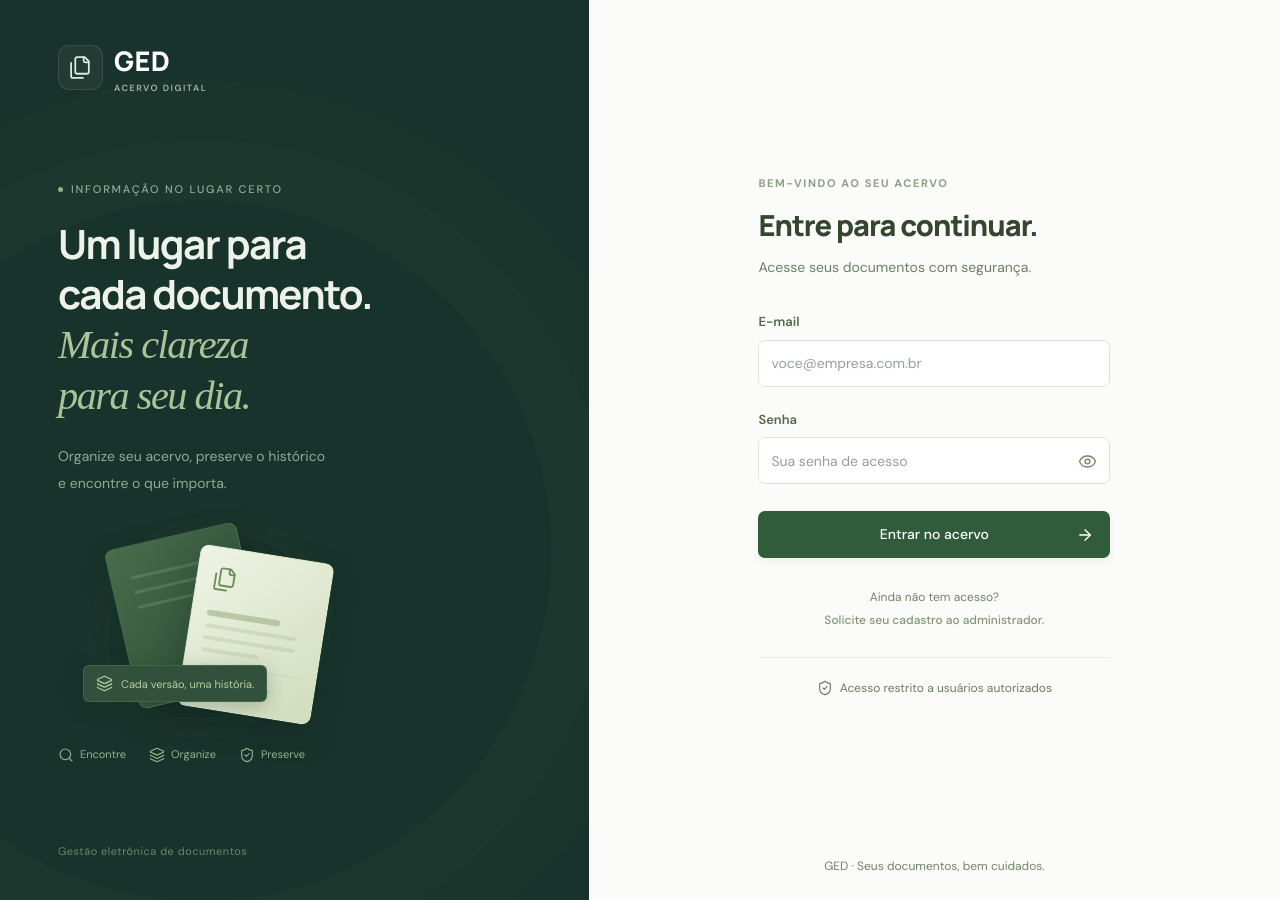
Test case: telas conectadas à API › mostra o erro de credenciais e permite corrigir o formulário
Type "marina@example.test" into the field with id "email".
click(934, 363); type("marina@example.test")  # box [758,340,1110,387]
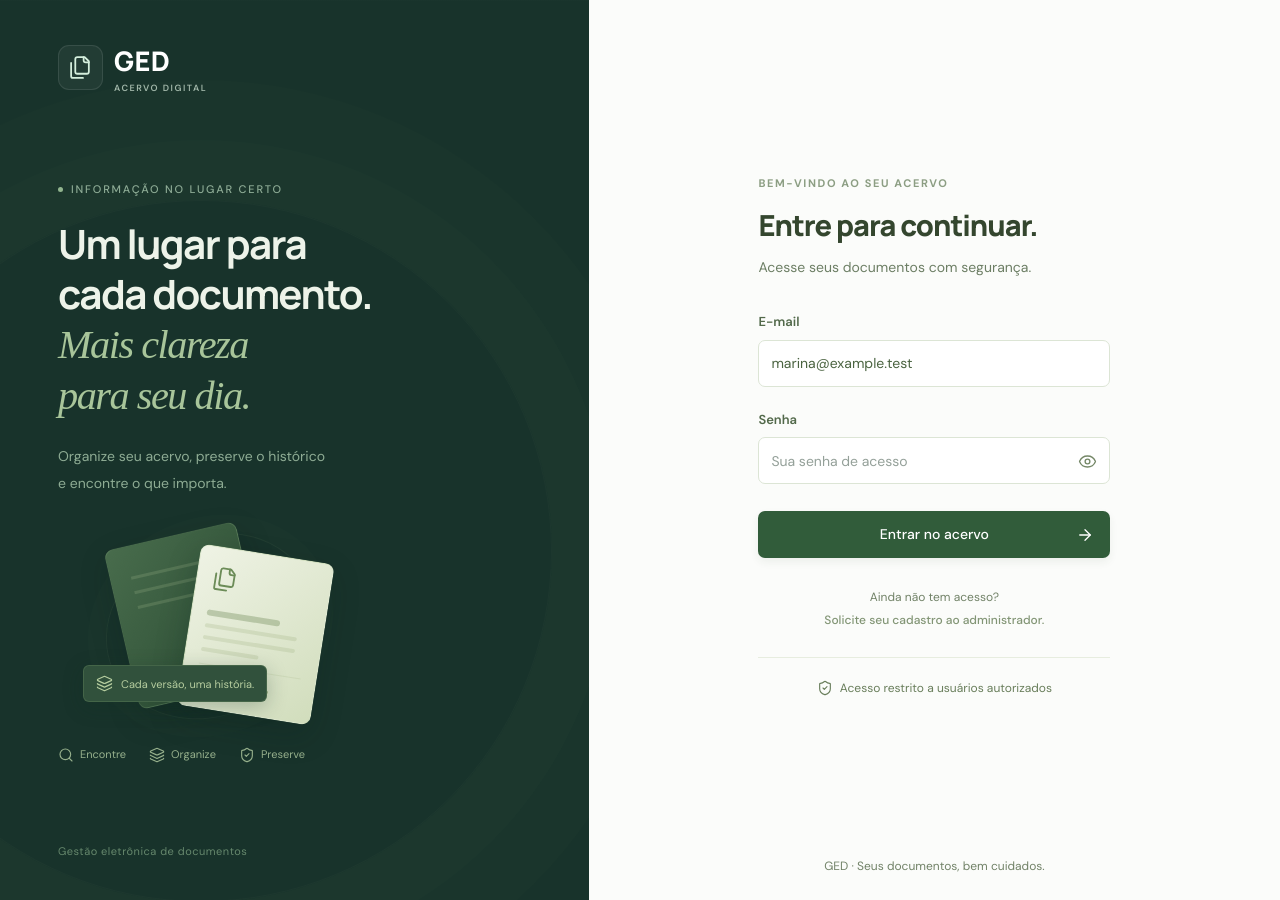
Type "wrong-password" into the password field labelled "Senha".
click(934, 461); type("wrong-password")  # box [758,437,1110,484]
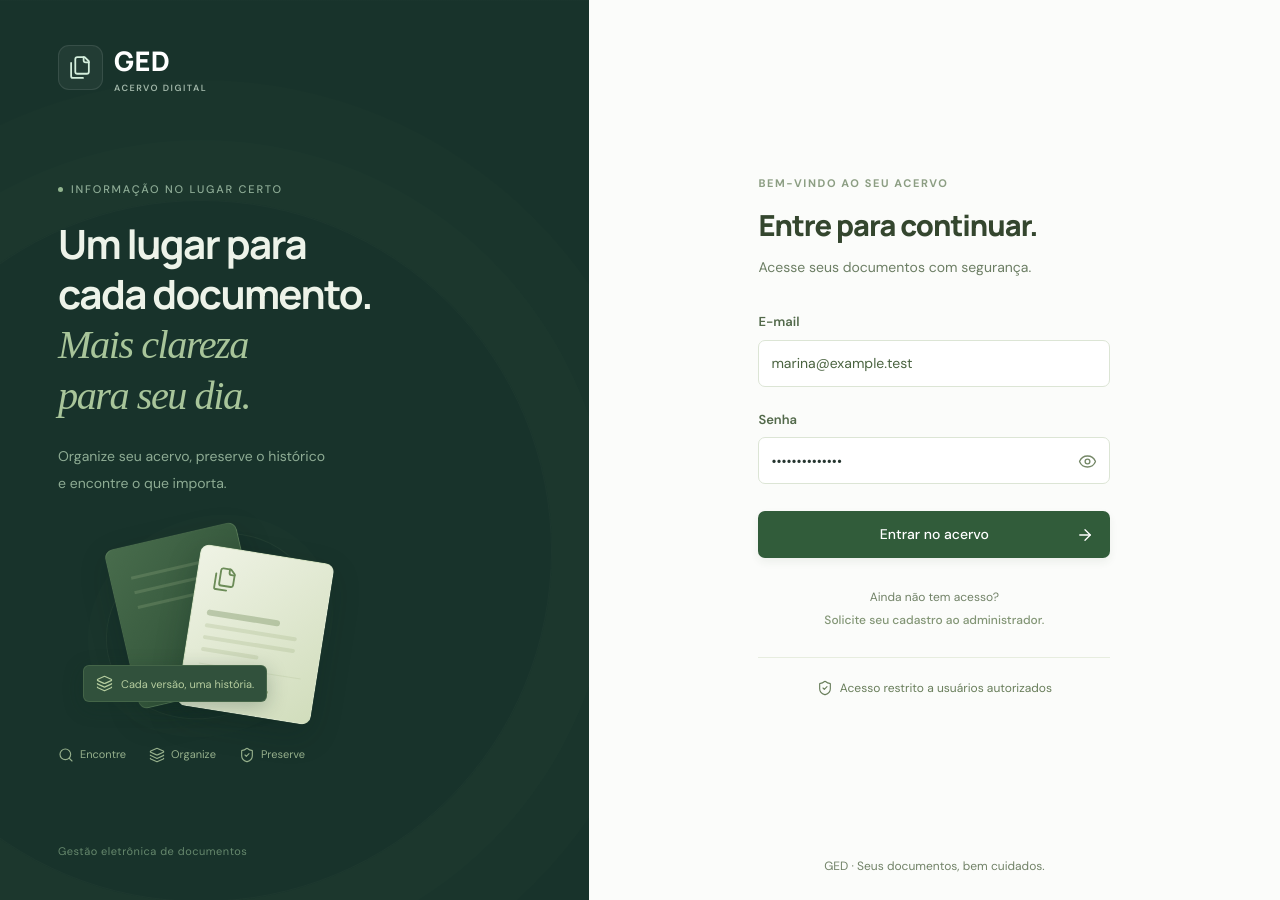
Submit the form, box [758,312,1110,558]
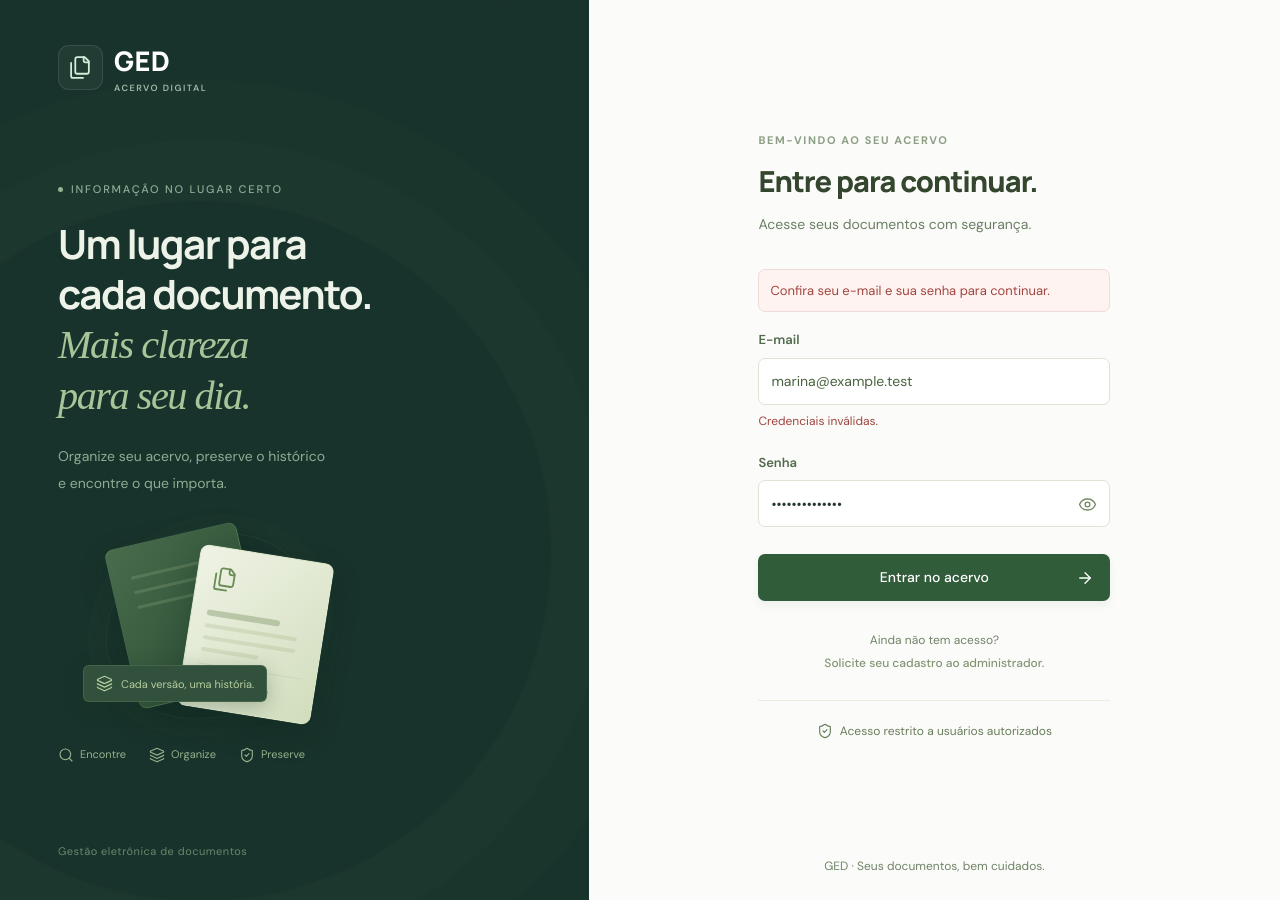
Check: the text "Credenciais inválidas." is shown, box [758,413,878,429]
